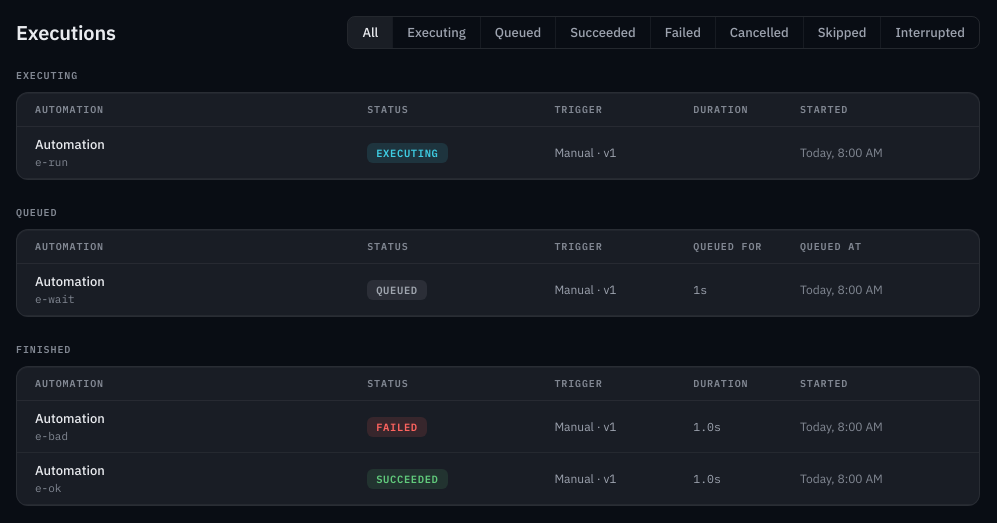
Test: executions list sections (§7) › hides the live rows under a terminal filter — that segment is one table of finished rows
The image size is (997, 523).
Click the button "Succeeded" at (603, 32), box top-left (555, 17), bottom-right (650, 48)
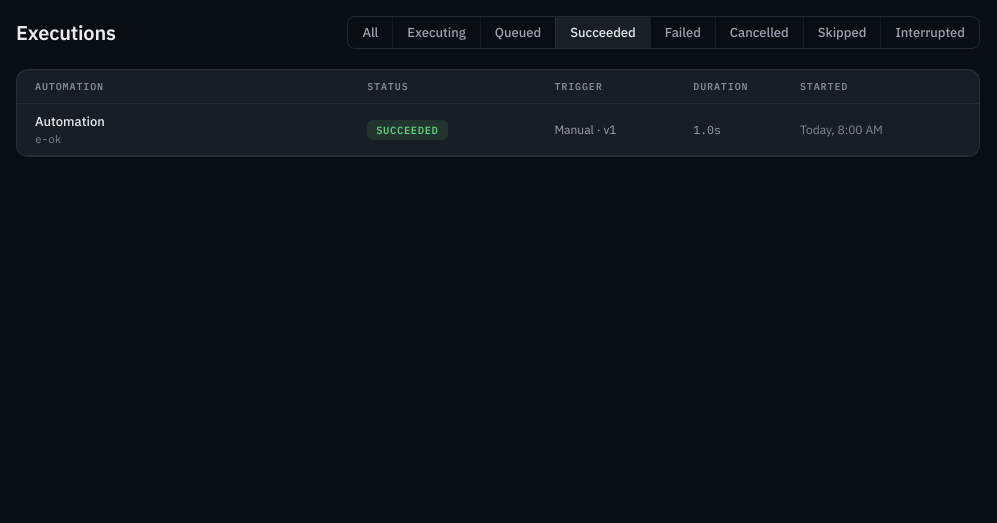
Check: the number of buttons with test id "execution-row" is 1, box top-left (17, 104), bottom-right (979, 156)
Check: the button "e-run" is gone
Check: the button "e-wait" is gone
